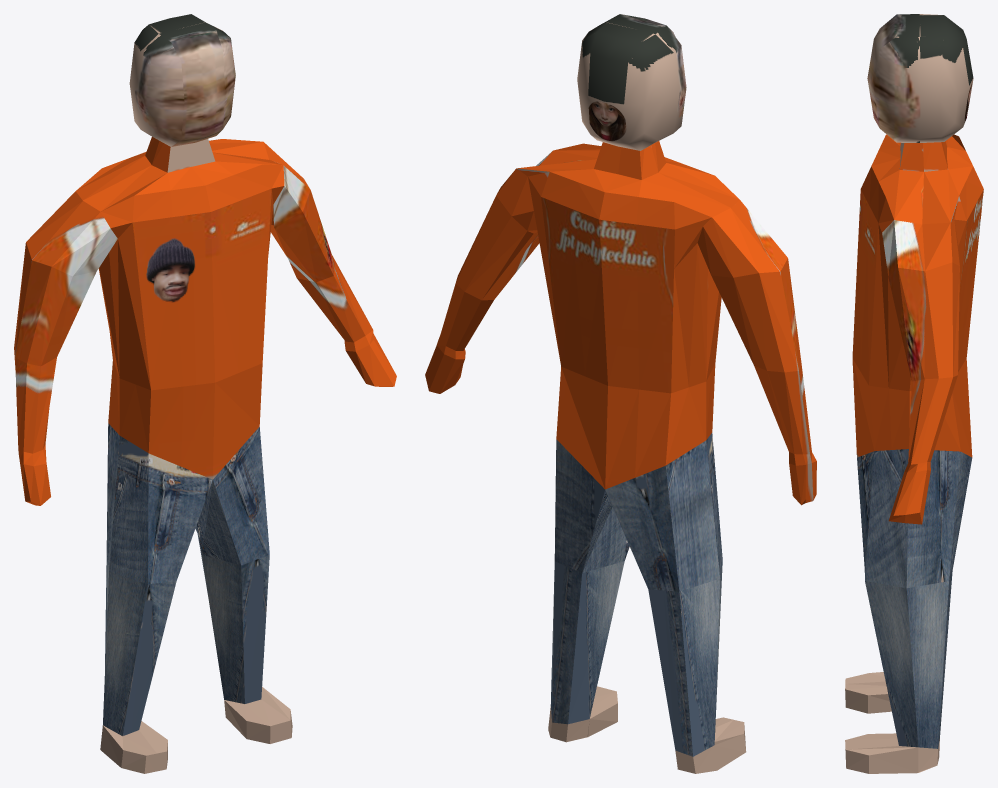
File: AnhJemFPT.fbx
The picture shows the model from 3 angles, left to right: view 1: azimuth 30°, elevation 25°; view 2: azimuth 150°, elevation 25°; view 3: azimuth 270°, elevation 25°; orthographic projection. The views are drawn at different scales.
Parts seen in each view (by area): view 1: pCube1, pCube2; view 2: pCube1, pCube2; view 3: pCube1, pCube2.
Boxes of the visible parts, bbox=[...] form: pCube1: bbox=[14, 137, 396, 773]; pCube2: bbox=[129, 14, 235, 146]; pCube1: bbox=[425, 141, 816, 773]; pCube2: bbox=[577, 14, 686, 150]; pCube1: bbox=[845, 134, 983, 773]; pCube2: bbox=[867, 14, 973, 142].
Size of the model in its own units: 4.2 by 7.56 by 1.34.
